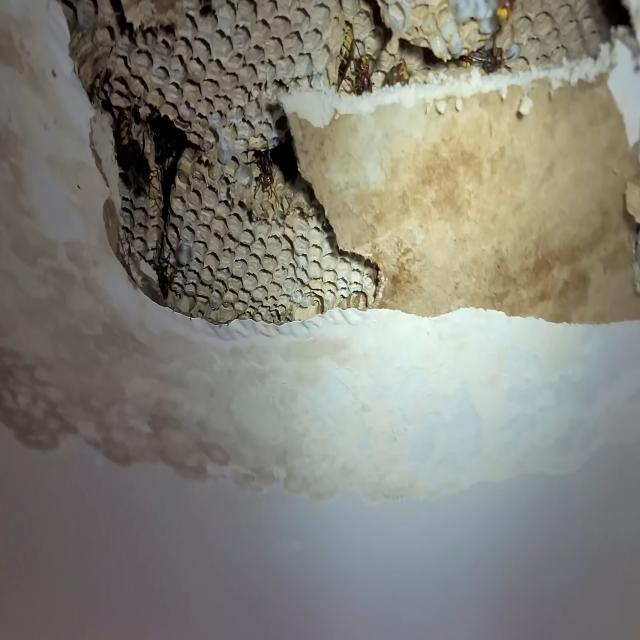Hornets: (330, 22, 360, 97)
